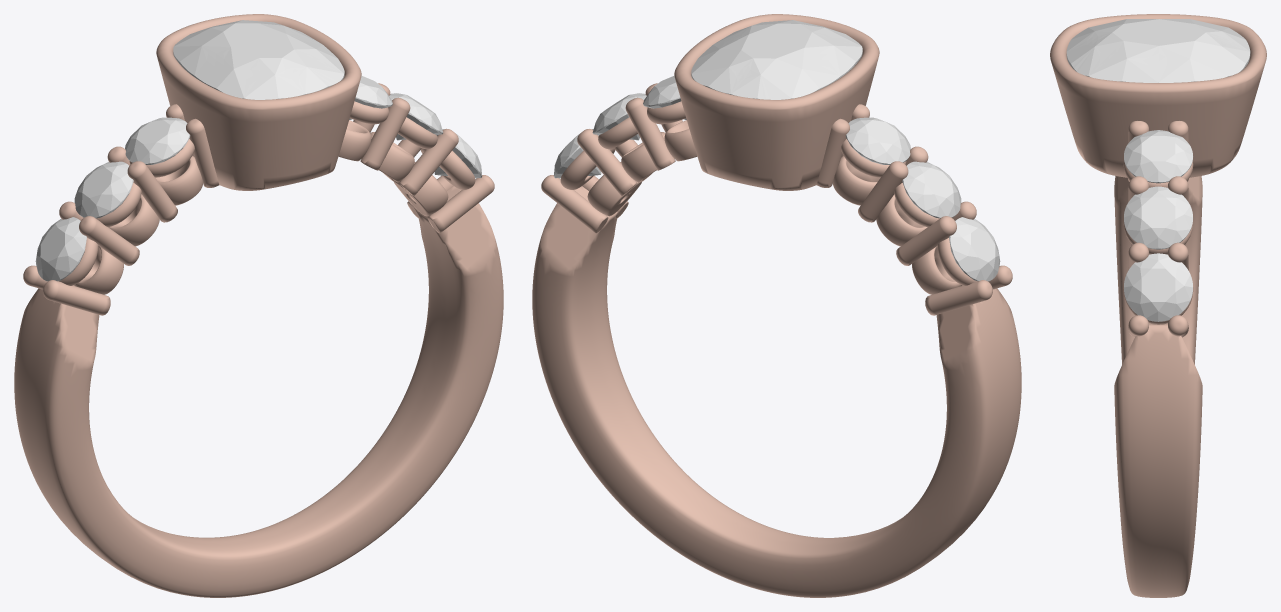
Rendered from diamond-cushion-rosegold-bezelset-straighttaperedband-7stone.glb.
The picture shows the model from 3 angles, left to right: view 1: azimuth 30°, elevation 25°; view 2: azimuth 150°, elevation 25°; view 3: azimuth 270°, elevation 25°; orthographic projection.
Visible parts, largest first — view 1: metal.002, stone, side.002, side.001, side.003, side.005, side.004, side.006; view 2: metal.002, stone, side.002, side.001, side.003, side.005, side.004, side.006; view 3: metal.002, stone, side.006, side.005, side.004.
Part boxes in pixels (bbox=[...]): metal.002: bbox=[14, 14, 503, 597]; stone: bbox=[173, 20, 344, 99]; side.002: bbox=[74, 161, 133, 218]; side.001: bbox=[35, 217, 86, 281]; side.003: bbox=[125, 117, 190, 164]; side.005: bbox=[389, 93, 443, 140]; side.004: bbox=[349, 75, 392, 119]; side.006: bbox=[434, 129, 482, 178]; metal.002: bbox=[532, 14, 1021, 597]; stone: bbox=[691, 20, 862, 99]; side.002: bbox=[902, 161, 961, 218]; side.001: bbox=[949, 217, 1000, 281]; side.003: bbox=[845, 117, 910, 164]; side.005: bbox=[592, 93, 646, 140]; side.004: bbox=[643, 75, 686, 119]; side.006: bbox=[553, 129, 601, 178]; metal.002: bbox=[1050, 14, 1266, 597]; stone: bbox=[1066, 19, 1250, 82]; side.006: bbox=[1124, 253, 1193, 321]; side.005: bbox=[1124, 186, 1193, 249]; side.004: bbox=[1124, 130, 1193, 183].
Bounding box in the file's own units: 20.51 × 23.24 × 8.45.
